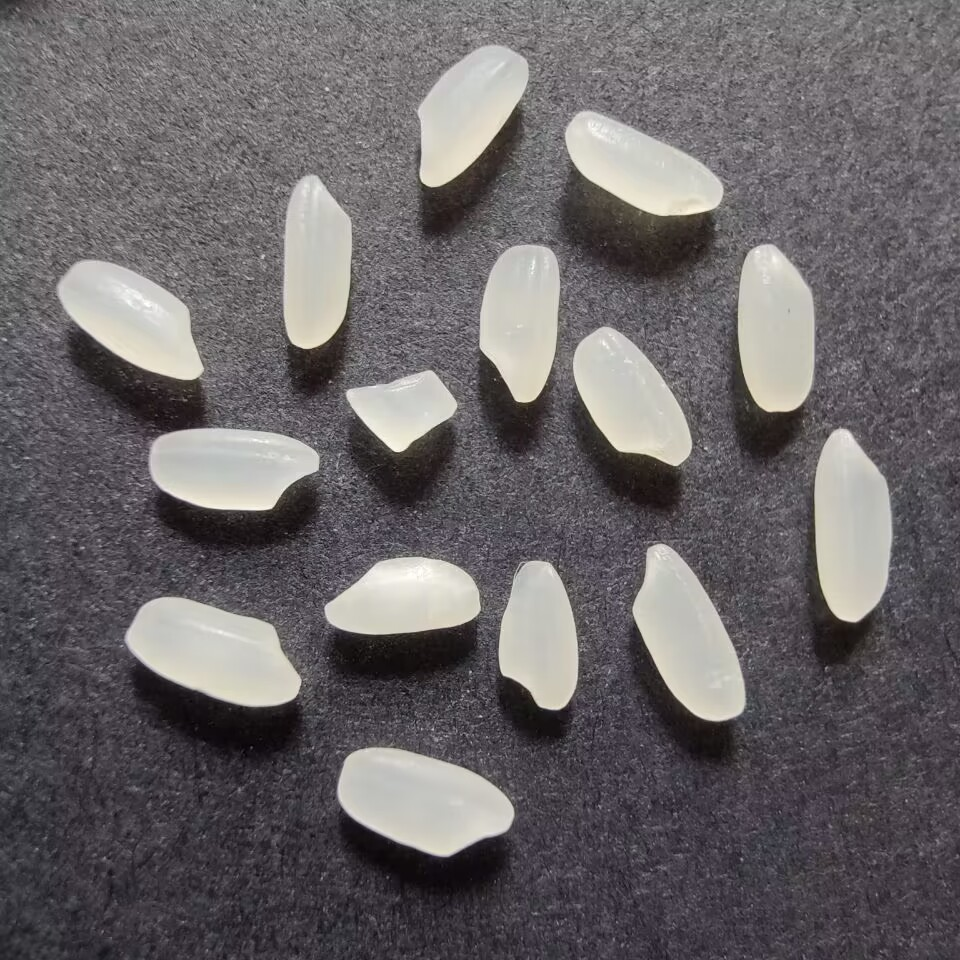broken: (343, 366, 469, 458)
rice: (627, 537, 749, 726), (120, 593, 308, 712), (334, 739, 517, 860), (53, 256, 212, 384), (410, 41, 535, 191), (810, 420, 898, 631), (570, 324, 695, 472), (560, 106, 725, 217), (138, 424, 327, 518), (730, 238, 822, 417), (475, 238, 565, 410), (316, 551, 484, 641), (276, 167, 357, 351), (496, 553, 583, 714)
